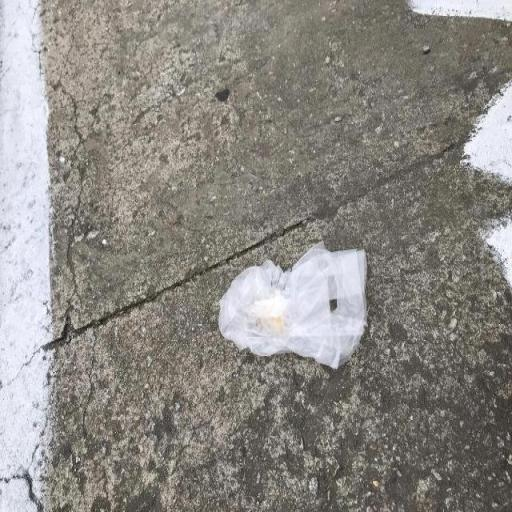plastic-bag: (217, 243, 371, 371)
